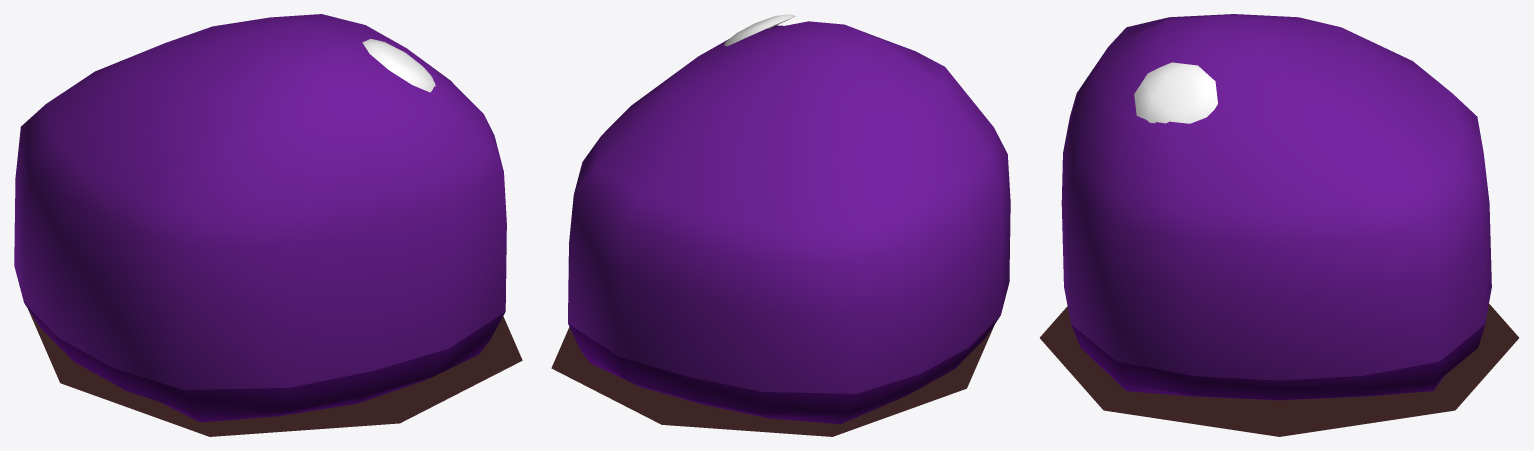
The model's file is Oozium238Mesh.PurpleLightning.glb.
3 views of the same model, side by side, from view 1: azimuth 30°, elevation 25°; view 2: azimuth 150°, elevation 25°; view 3: azimuth 270°, elevation 25° (orthographic). The views are drawn at different scales.
Visible parts, largest first — view 1: Oozium238Mesh.PurpleLightning; view 2: Oozium238Mesh.PurpleLightning; view 3: Oozium238Mesh.PurpleLightning.
Boxes of the visible parts, x1,y1,x2,y2 form: Oozium238Mesh.PurpleLightning: (14,14,522,436); Oozium238Mesh.PurpleLightning: (551,14,1010,436); Oozium238Mesh.PurpleLightning: (1040,14,1518,436).
Size of the model in its own units: 2.04 by 1.44 by 2.07.
1 material, 1 textured.
